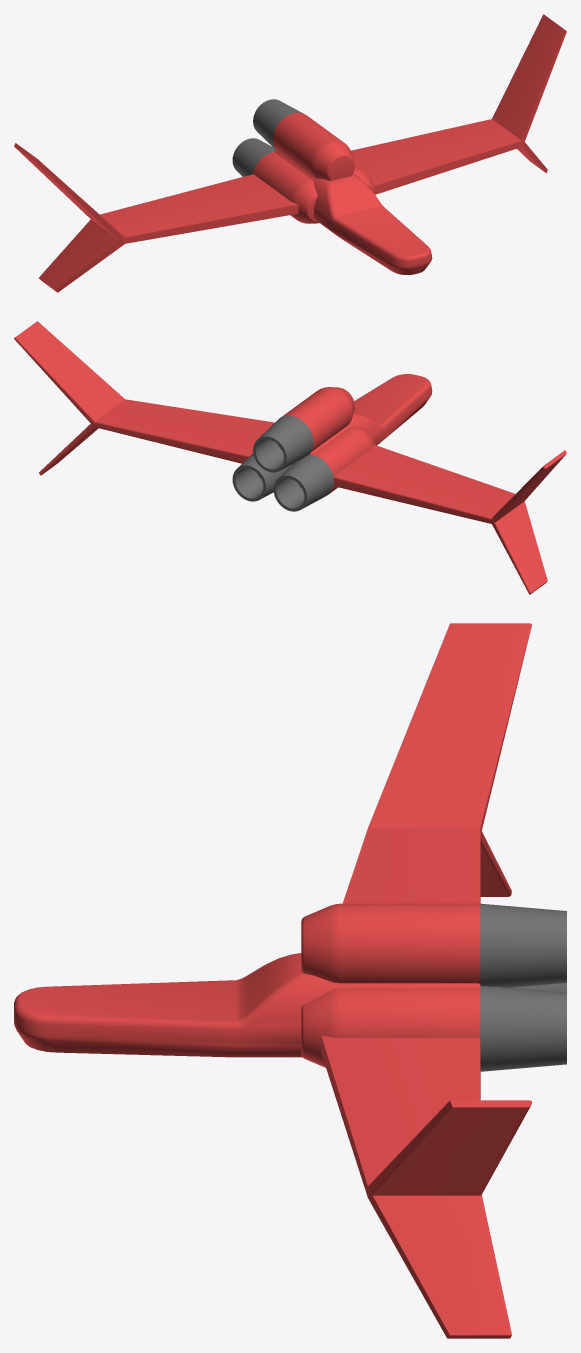
The model's file is spaceship.fbx.
The picture shows the model from 3 angles, top to bottom: view 1: azimuth 30°, elevation 25°; view 2: azimuth 150°, elevation 25°; view 3: azimuth 270°, elevation 25°; orthographic projection. The views are drawn at different scales.
Visible parts, largest first — view 1: Plane, ThrusterLeft, ThrusterRight; view 2: Plane, ThrusterLeft, ThrusterRight, ThrusterTop; view 3: Plane, ThrusterLeft, ThrusterTop.
Part boxes in pixels (box(x1,y1,x2,y2)): Plane: box(14, 14, 566, 292); ThrusterLeft: box(253, 99, 354, 180); ThrusterRight: box(232, 138, 319, 223); Plane: box(14, 321, 566, 594); ThrusterLeft: box(253, 387, 354, 472); ThrusterRight: box(273, 426, 375, 511); ThrusterTop: box(232, 453, 291, 501); Plane: box(14, 623, 531, 1338); ThrusterLeft: box(301, 903, 566, 987); ThrusterTop: box(301, 986, 566, 1071).
Bounding box in the file's own units: 26.84 × 13.03 × 6.66.
